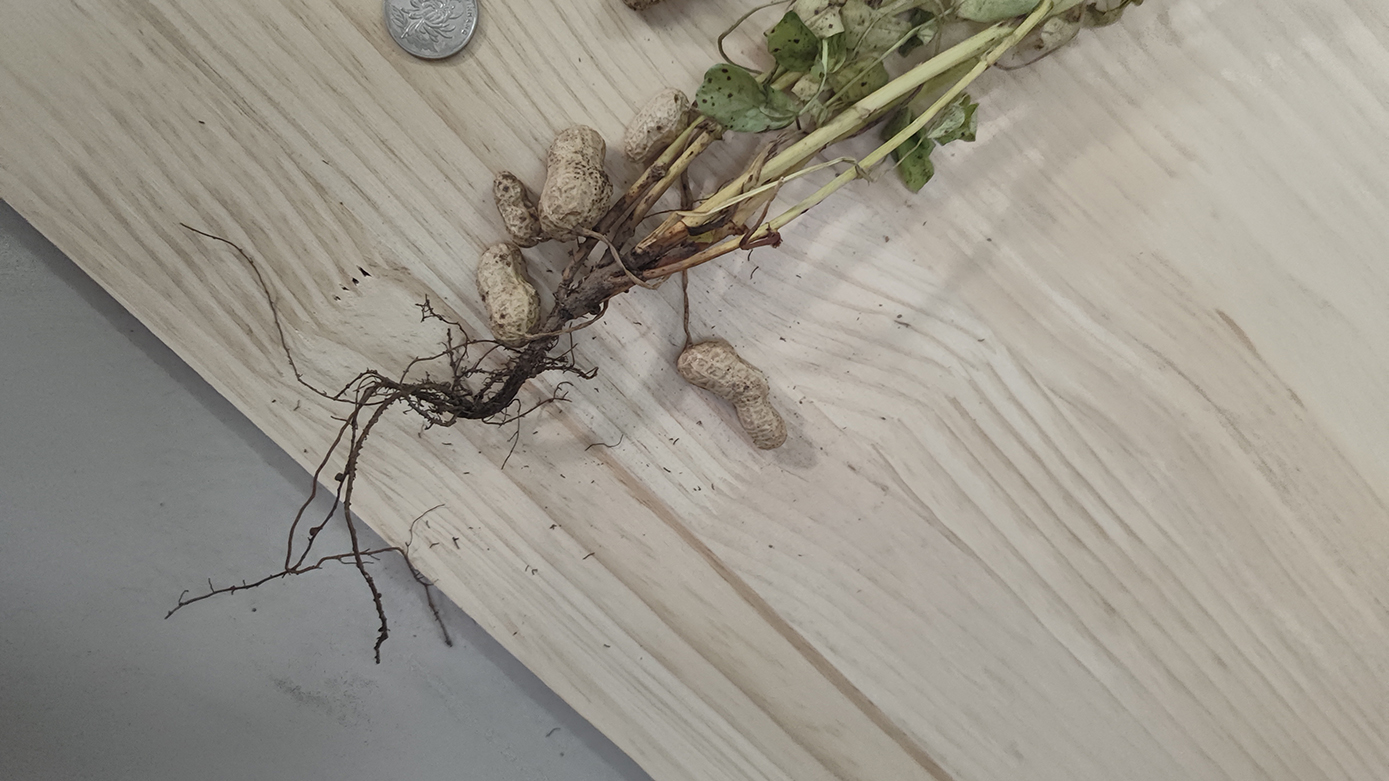h: (678, 338, 788, 450), (539, 124, 613, 243), (476, 244, 539, 348), (625, 86, 690, 163), (494, 171, 539, 246)
